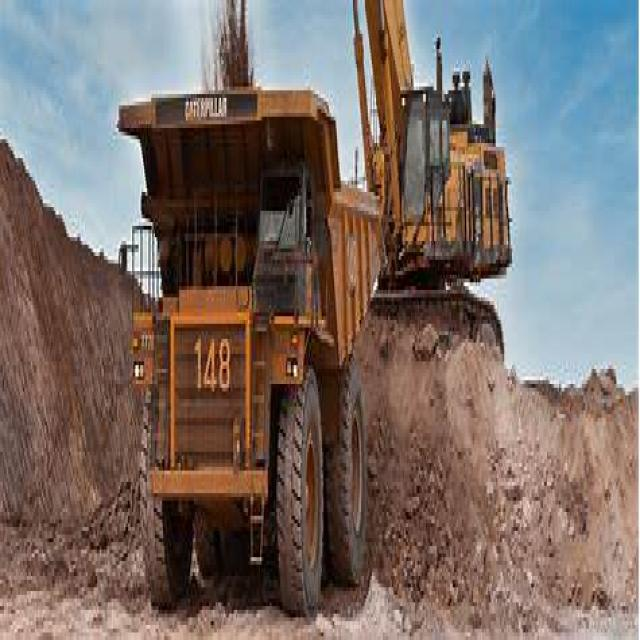dump_truck: (98, 60, 403, 602)
